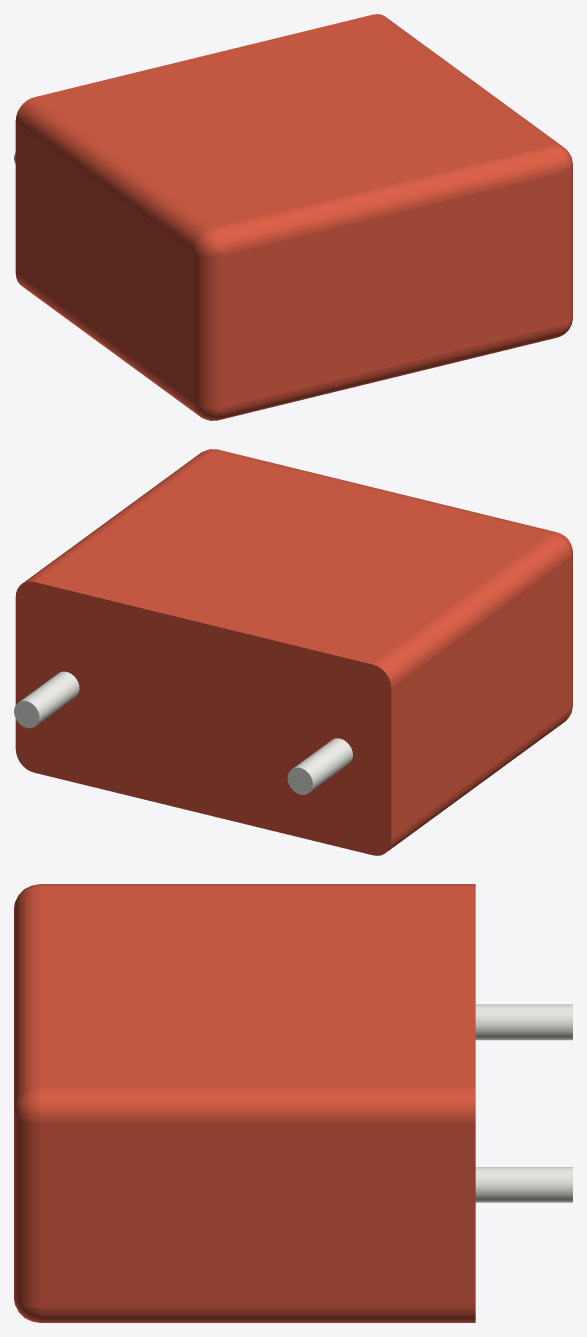
Rendered from C_Rect_L10.3mm_W5.0mm_P7.50mm_MKS4.glb.
The picture shows the model from 3 angles, top to bottom: view 1: azimuth 30°, elevation 25°; view 2: azimuth 150°, elevation 25°; view 3: azimuth 270°, elevation 25°; orthographic projection. The views are drawn at different scales.
Visible parts, largest first — view 1: Shape_IndexedFaceSet.009, Shape_IndexedFaceSet.007, Shape_IndexedFaceSet, Shape_IndexedFaceSet.017, Shape_IndexedFaceSet.004, Shape_IndexedFaceSet.002, Shape_IndexedFaceSet.015, Shape_IndexedFaceSet.016, Shape_IndexedFaceSet.001, Shape_IndexedFaceSet.011, Shape_IndexedFaceSet.008; view 2: Shape_IndexedFaceSet.003, Shape_IndexedFaceSet.009, Shape_IndexedFaceSet, Shape_IndexedFaceSet.004, Shape_IndexedFaceSet.001, Shape_IndexedFaceSet.013, Shape_IndexedFaceSet.014, Shape_IndexedFaceSet.011, Shape_IndexedFaceSet.017, Shape_IndexedFaceSet.020, Shape_IndexedFaceSet.021; view 3: Shape_IndexedFaceSet.009, Shape_IndexedFaceSet.012, Shape_IndexedFaceSet.011, Shape_IndexedFaceSet.010, Shape_IndexedFaceSet.017, Shape_IndexedFaceSet.016, Shape_IndexedFaceSet.013, Shape_IndexedFaceSet.014, Shape_IndexedFaceSet.004, Shape_IndexedFaceSet.019.
Boxes of the visible parts, <box> form: Shape_IndexedFaceSet.009: <box>34,14,551,227</box>; Shape_IndexedFaceSet.007: <box>223,172,562,407</box>; Shape_IndexedFaceSet: <box>15,121,194,403</box>; Shape_IndexedFaceSet.017: <box>213,145,562,254</box>; Shape_IndexedFaceSet.004: <box>15,97,212,251</box>; Shape_IndexedFaceSet.002: <box>194,252,223,408</box>; Shape_IndexedFaceSet.015: <box>218,325,562,420</box>; Shape_IndexedFaceSet.016: <box>562,166,572,324</box>; Shape_IndexedFaceSet.001: <box>16,274,198,415</box>; Shape_IndexedFaceSet.011: <box>373,14,562,146</box>; Shape_IndexedFaceSet.008: <box>194,228,223,256</box>; Shape_IndexedFaceSet.003: <box>15,581,391,855</box>; Shape_IndexedFaceSet.009: <box>34,451,551,664</box>; Shape_IndexedFaceSet: <box>391,557,569,840</box>; Shape_IndexedFaceSet.004: <box>373,534,569,687</box>; Shape_IndexedFaceSet.001: <box>387,710,569,851</box>; Shape_IndexedFaceSet.013: <box>293,738,352,791</box>; Shape_IndexedFaceSet.014: <box>20,671,79,725</box>; Shape_IndexedFaceSet.011: <box>23,450,212,582</box>; Shape_IndexedFaceSet.017: <box>213,449,556,533</box>; Shape_IndexedFaceSet.020: <box>287,767,312,794</box>; Shape_IndexedFaceSet.021: <box>14,701,39,728</box>; Shape_IndexedFaceSet.009: <box>39,886,475,1087</box>; Shape_IndexedFaceSet.012: <box>39,1122,475,1307</box>; Shape_IndexedFaceSet.011: <box>39,1088,475,1122</box>; Shape_IndexedFaceSet.010: <box>39,1308,475,1322</box>; Shape_IndexedFaceSet.017: <box>14,886,39,1109</box>; Shape_IndexedFaceSet.016: <box>14,1112,39,1307</box>; Shape_IndexedFaceSet.013: <box>475,1004,572,1040</box>; Shape_IndexedFaceSet.014: <box>475,1167,572,1202</box>; Shape_IndexedFaceSet.004: <box>39,884,475,886</box>; Shape_IndexedFaceSet.019: <box>14,1088,39,1122</box>.
Bounding box in the file's own units: 4.06 × 1.97 × 4.29.
